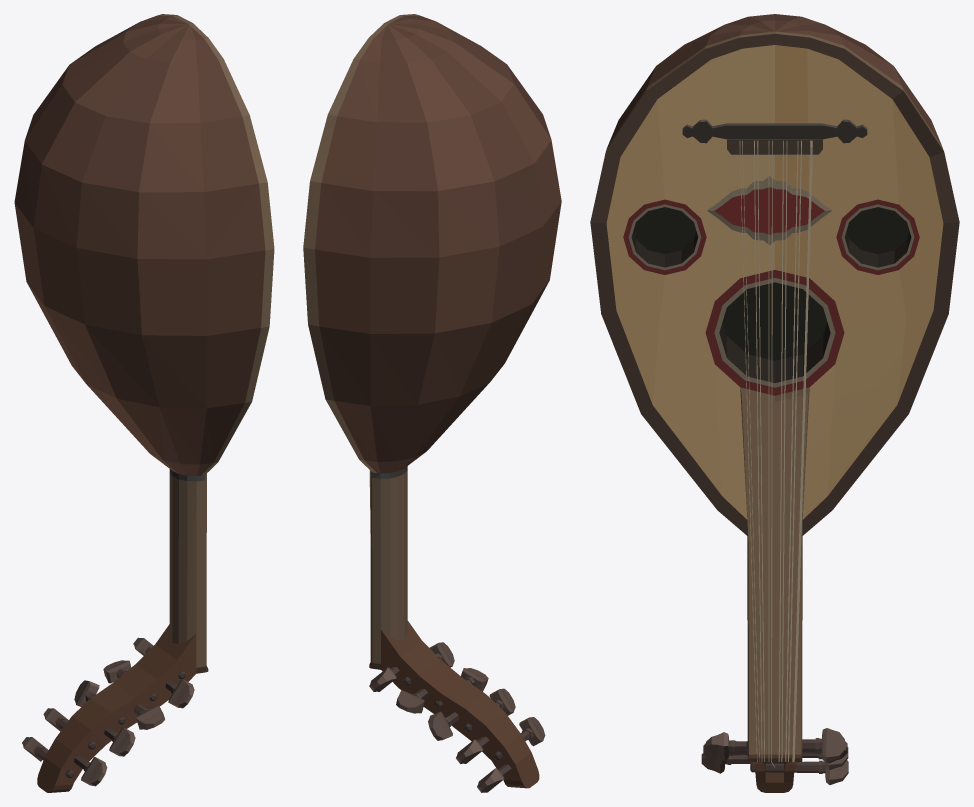
File: bluntLightOud.glb
3 views of the same model, side by side, from view 1: azimuth 30°, elevation 25°; view 2: azimuth 150°, elevation 25°; view 3: azimuth 270°, elevation 25° (orthographic). The views are drawn at different scales.
Parts seen in each view (by area): view 1: bluntLightOud; view 2: bluntLightOud; view 3: bluntLightOud.
Boxes of the visible parts, bbox=[...] form: bluntLightOud: bbox=[14, 14, 274, 792]; bluntLightOud: bbox=[303, 14, 561, 792]; bluntLightOud: bbox=[590, 14, 959, 792].
Size of the model in its own units: 0.2236 by 0.95 by 0.3824.
